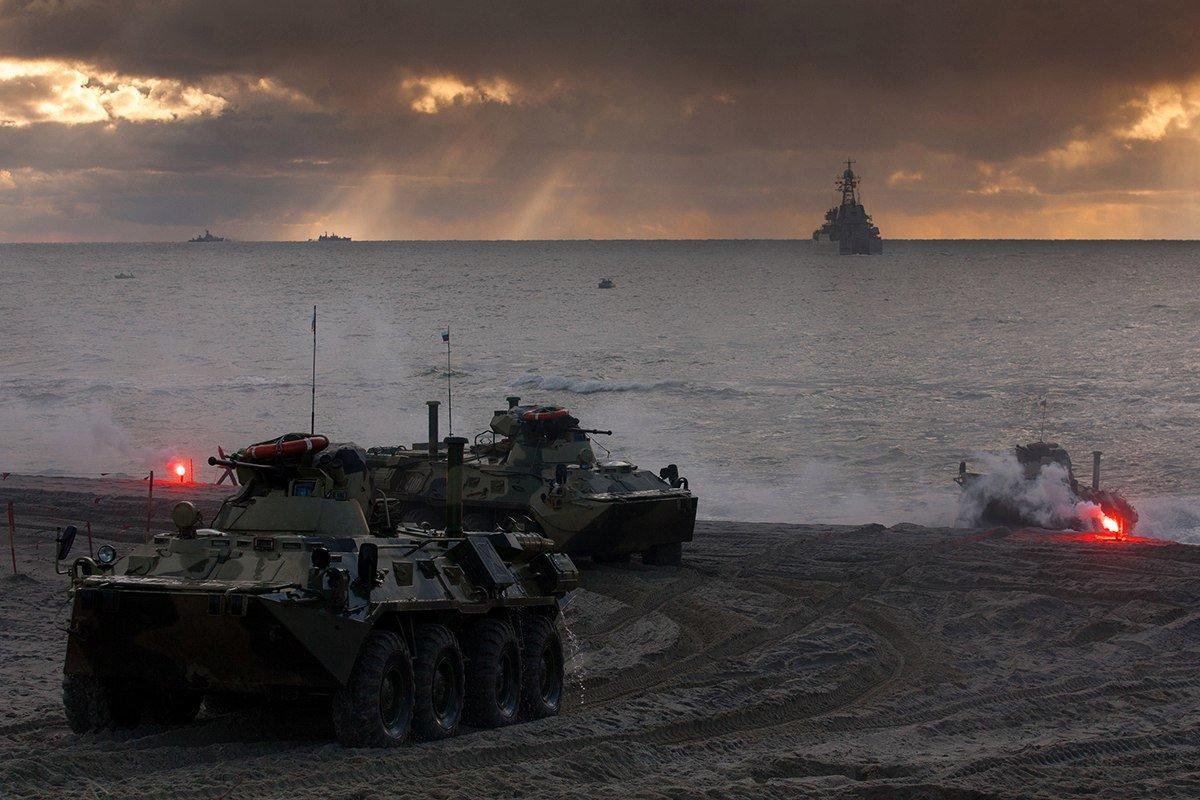tank: (54, 430, 581, 751), (364, 396, 700, 570), (953, 438, 1140, 540)
